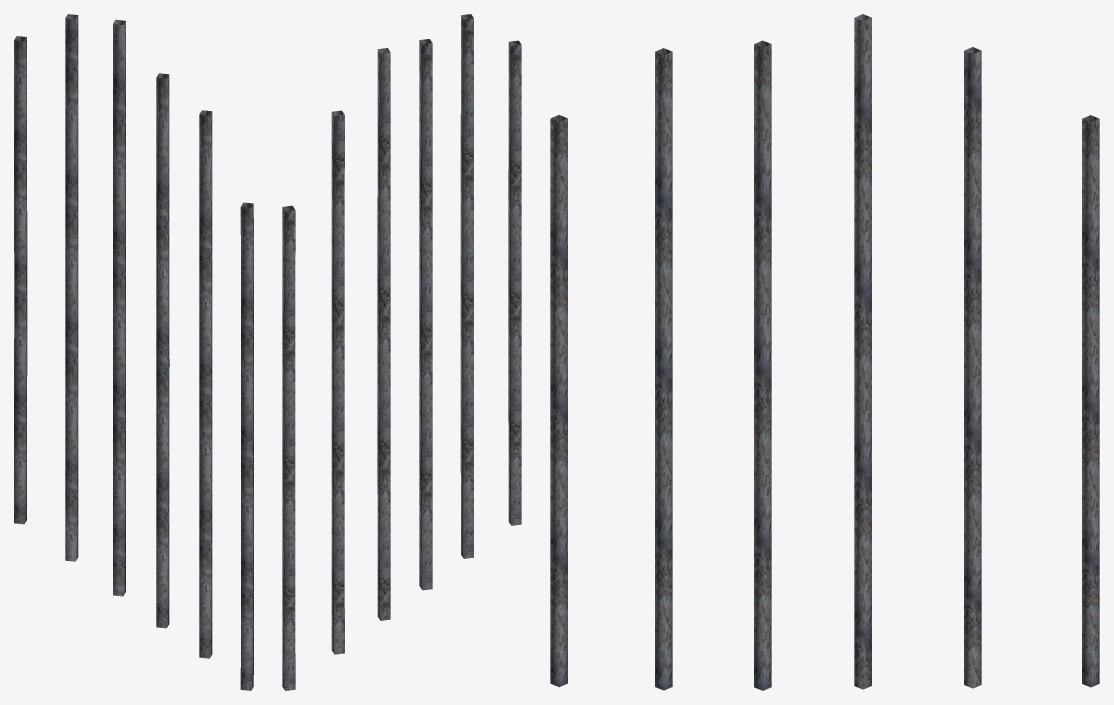
The model's file is INST_EKH_CAVERN_GATE.fbx.
The picture shows the model from 3 angles, left to right: view 1: azimuth 30°, elevation 25°; view 2: azimuth 150°, elevation 25°; view 3: azimuth 270°, elevation 25°; orthographic projection. The views are drawn at different scales.
Parts seen in each view (by area): view 1: INST_EKH_CAVERN_GATE; view 2: INST_EKH_CAVERN_GATE; view 3: INST_EKH_CAVERN_GATE.
Part boxes in pixels (bbox=[...]): INST_EKH_CAVERN_GATE: bbox=[14, 14, 253, 690]; INST_EKH_CAVERN_GATE: bbox=[282, 14, 521, 690]; INST_EKH_CAVERN_GATE: bbox=[550, 14, 1099, 690].
Size of the model in its own units: 756 by 24952 by 18568.
1 material, 1 textured.
